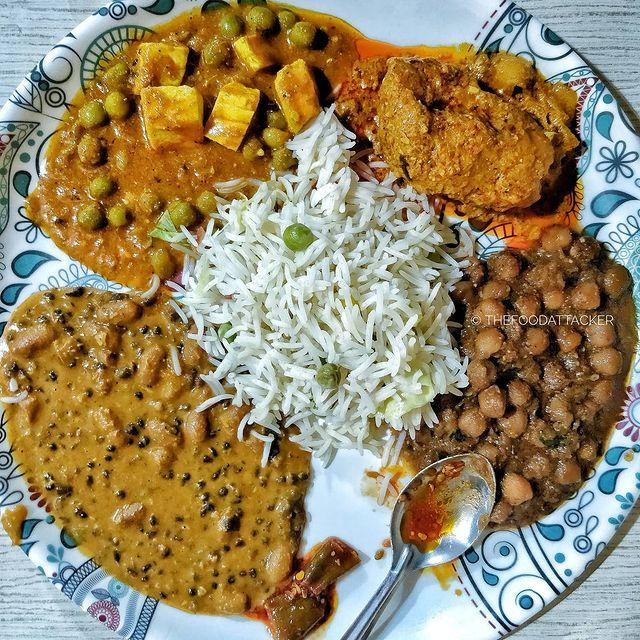Chole: (462, 244, 634, 476)
